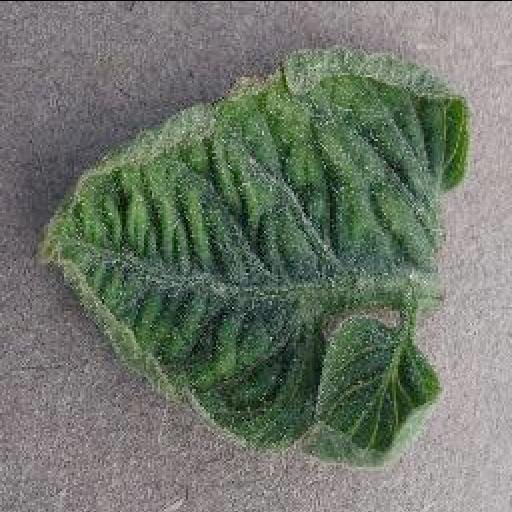disease_tomato: (38, 48, 474, 474)
